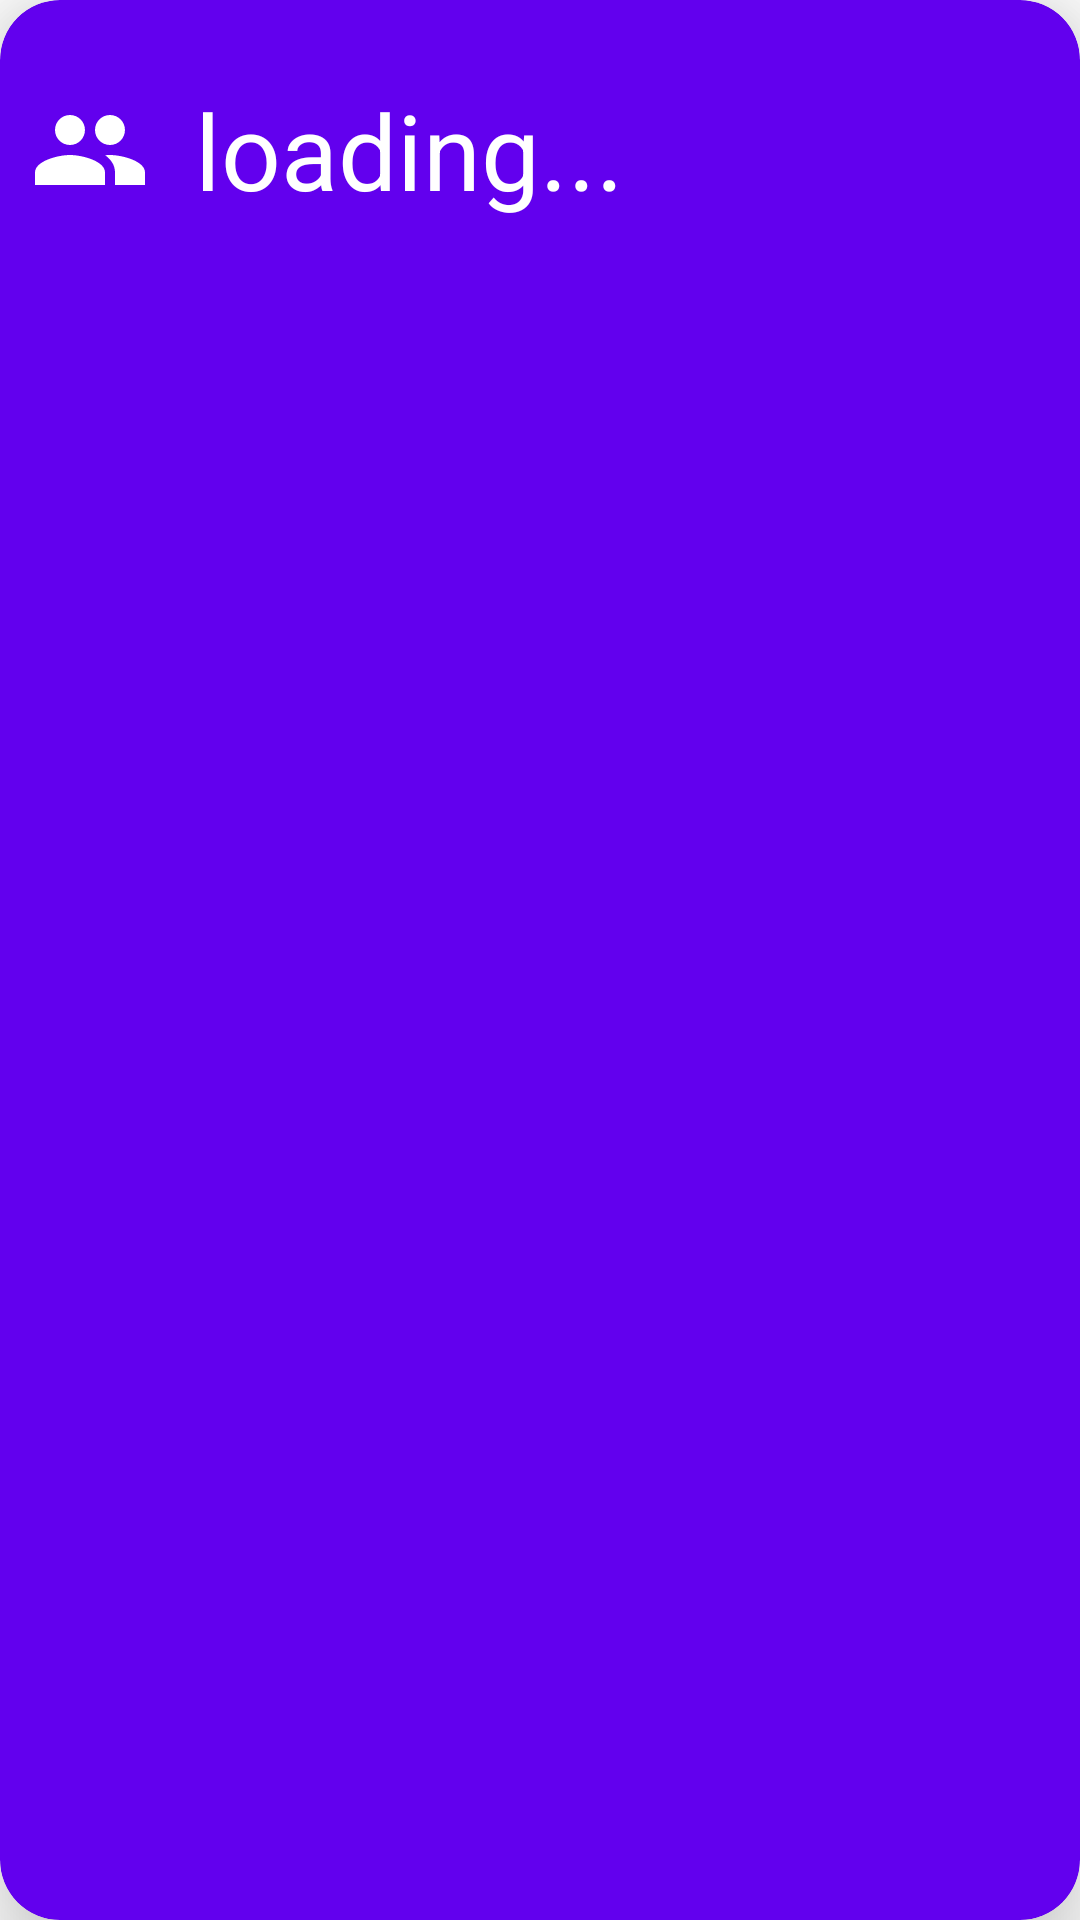

Screen size 1080 × 1920. Icon name, then its center in pixels as (x=x, y=y):
people: (x=90, y=150)
